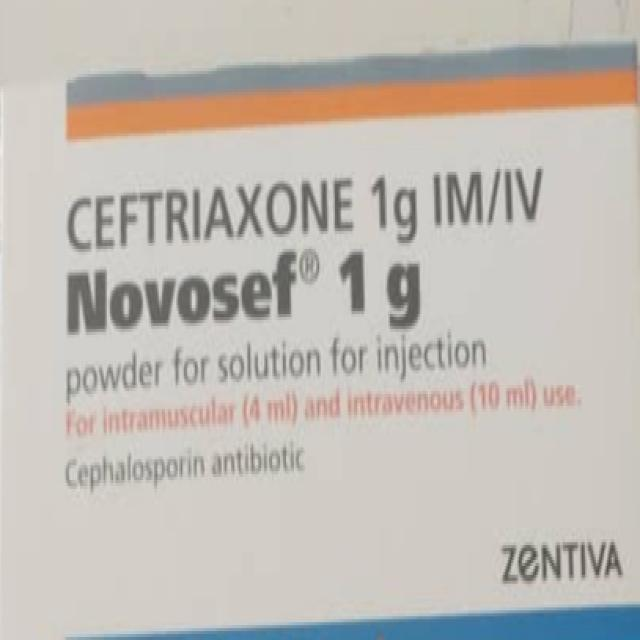drug-name: (66, 246, 426, 338)
